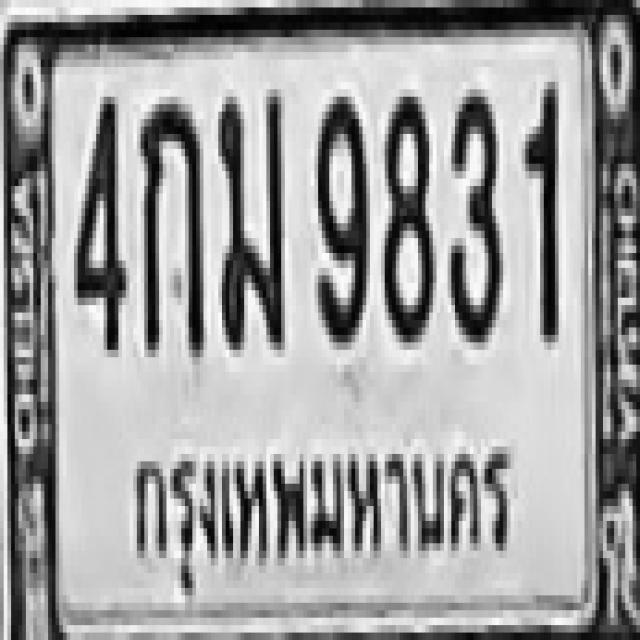1: (522, 82, 560, 345)
10GorGai: (137, 96, 205, 360)
3: (448, 82, 503, 346)
4: (70, 90, 128, 362)
42MorMa: (214, 82, 286, 351)
8: (381, 89, 436, 344)
9: (315, 88, 371, 343)
Bangkok: (125, 413, 509, 597)
